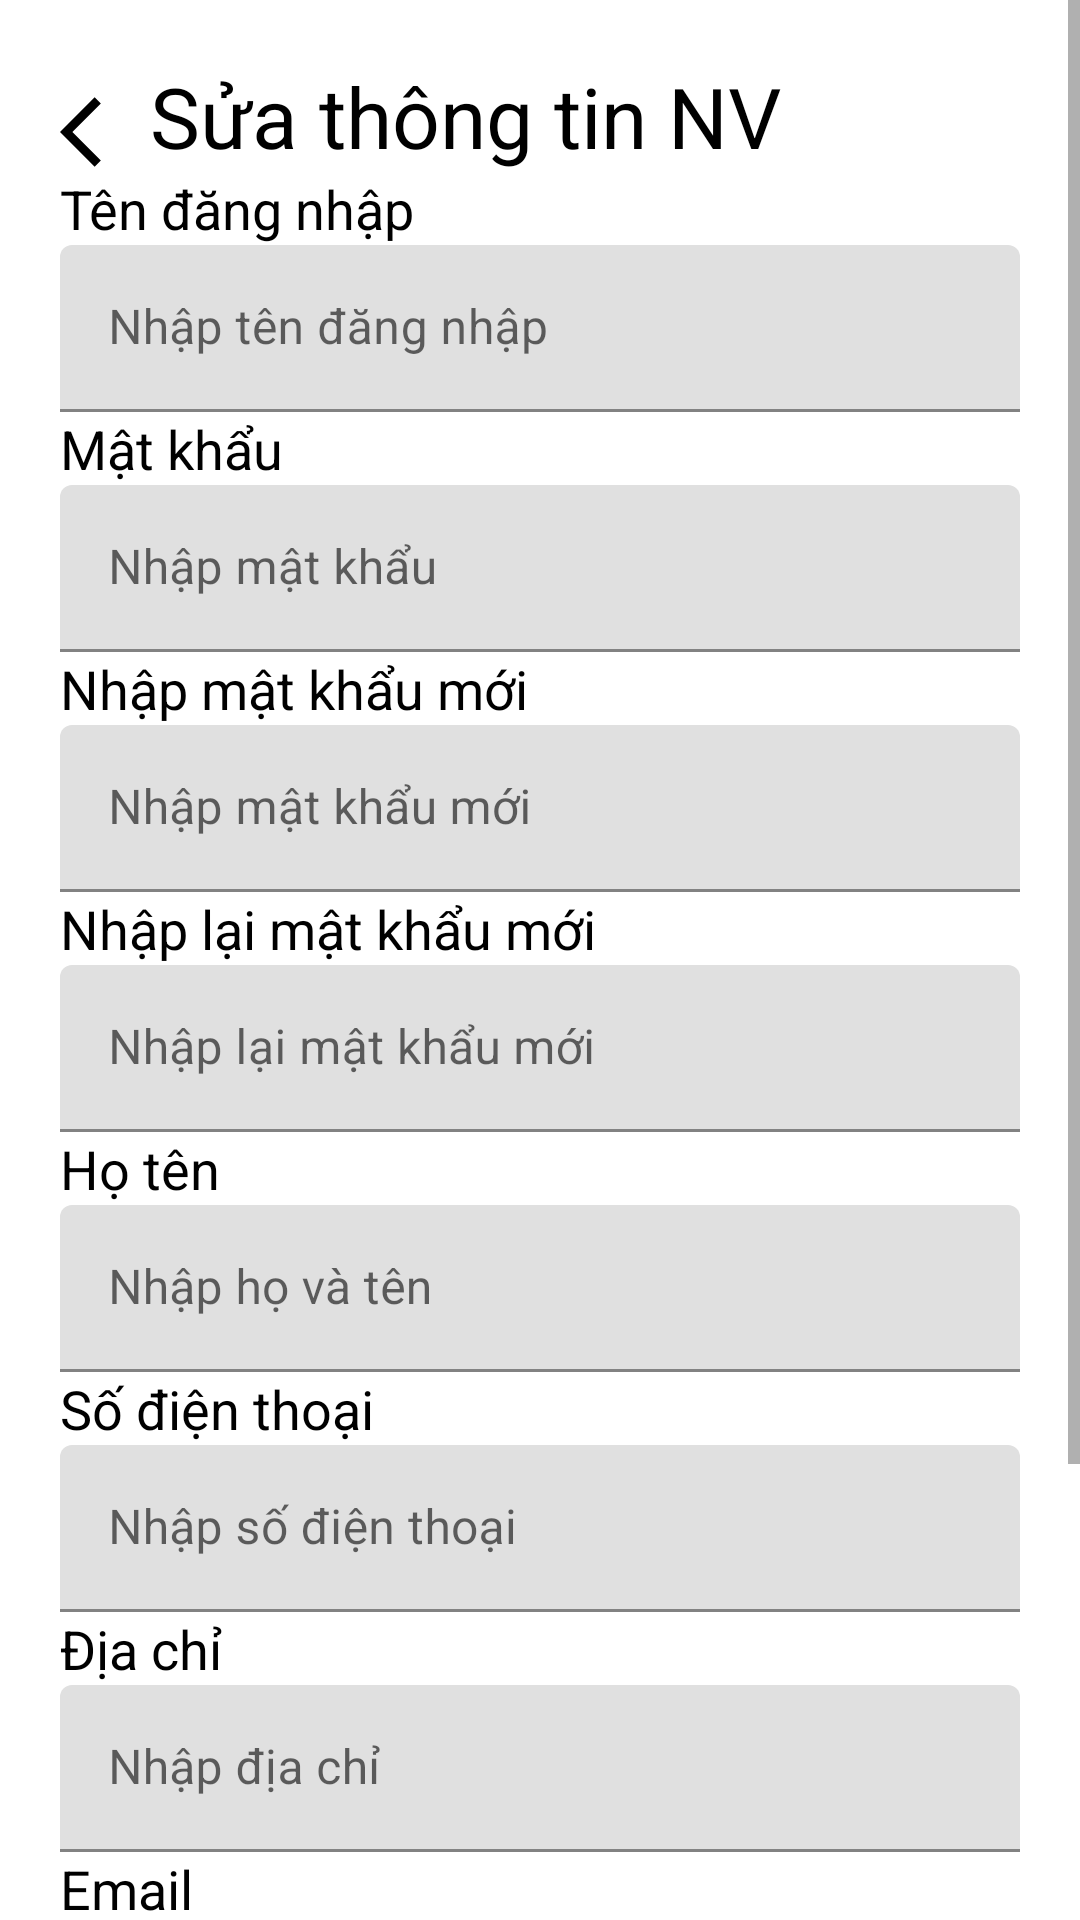

Point at icon controls on the screen. Image size 1080 x 1920, points as (x=x, y=y).
back: (x=80, y=132)
